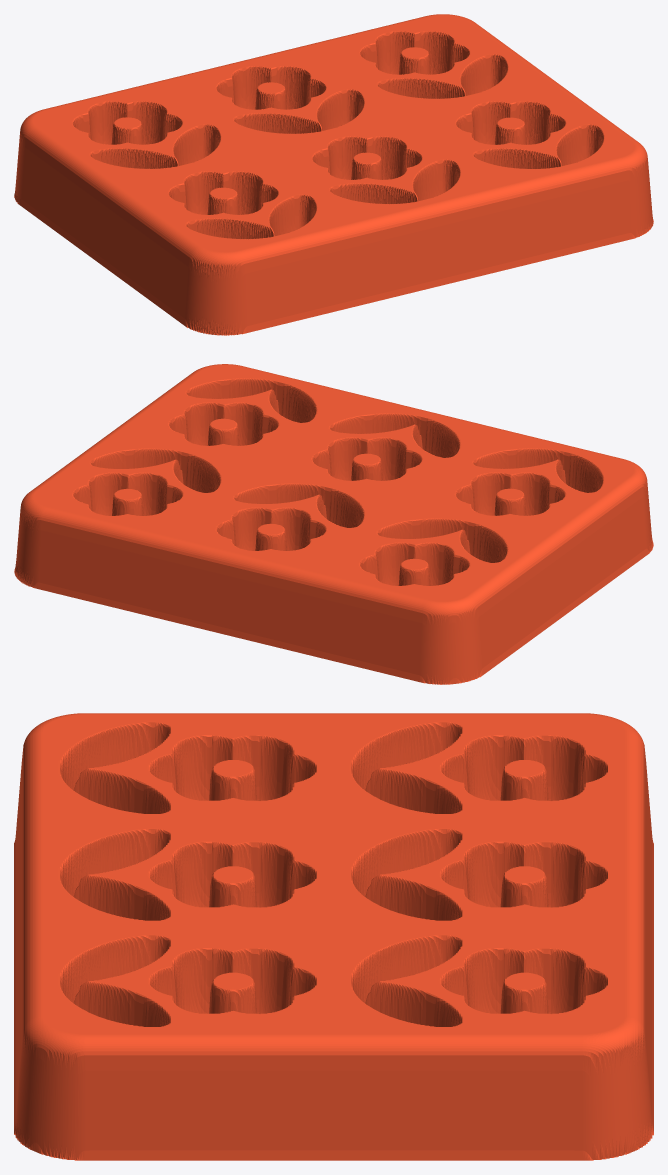
File: mold.glb
The picture shows the model from 3 angles, top to bottom: view 1: azimuth 30°, elevation 25°; view 2: azimuth 150°, elevation 25°; view 3: azimuth 270°, elevation 25°; orthographic projection. The views are drawn at different scales.
Visible parts, largest first — view 1: geometry_0; view 2: geometry_0; view 3: geometry_0.
Part boxes in pixels (bbox=[...]): geometry_0: bbox=[14, 14, 653, 335]; geometry_0: bbox=[14, 364, 653, 684]; geometry_0: bbox=[14, 713, 653, 1160].
Bounding box in the file's own units: 0.1026 × 0.0159 × 0.0808.
